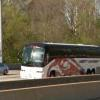Bus: (15, 39, 99, 82)
